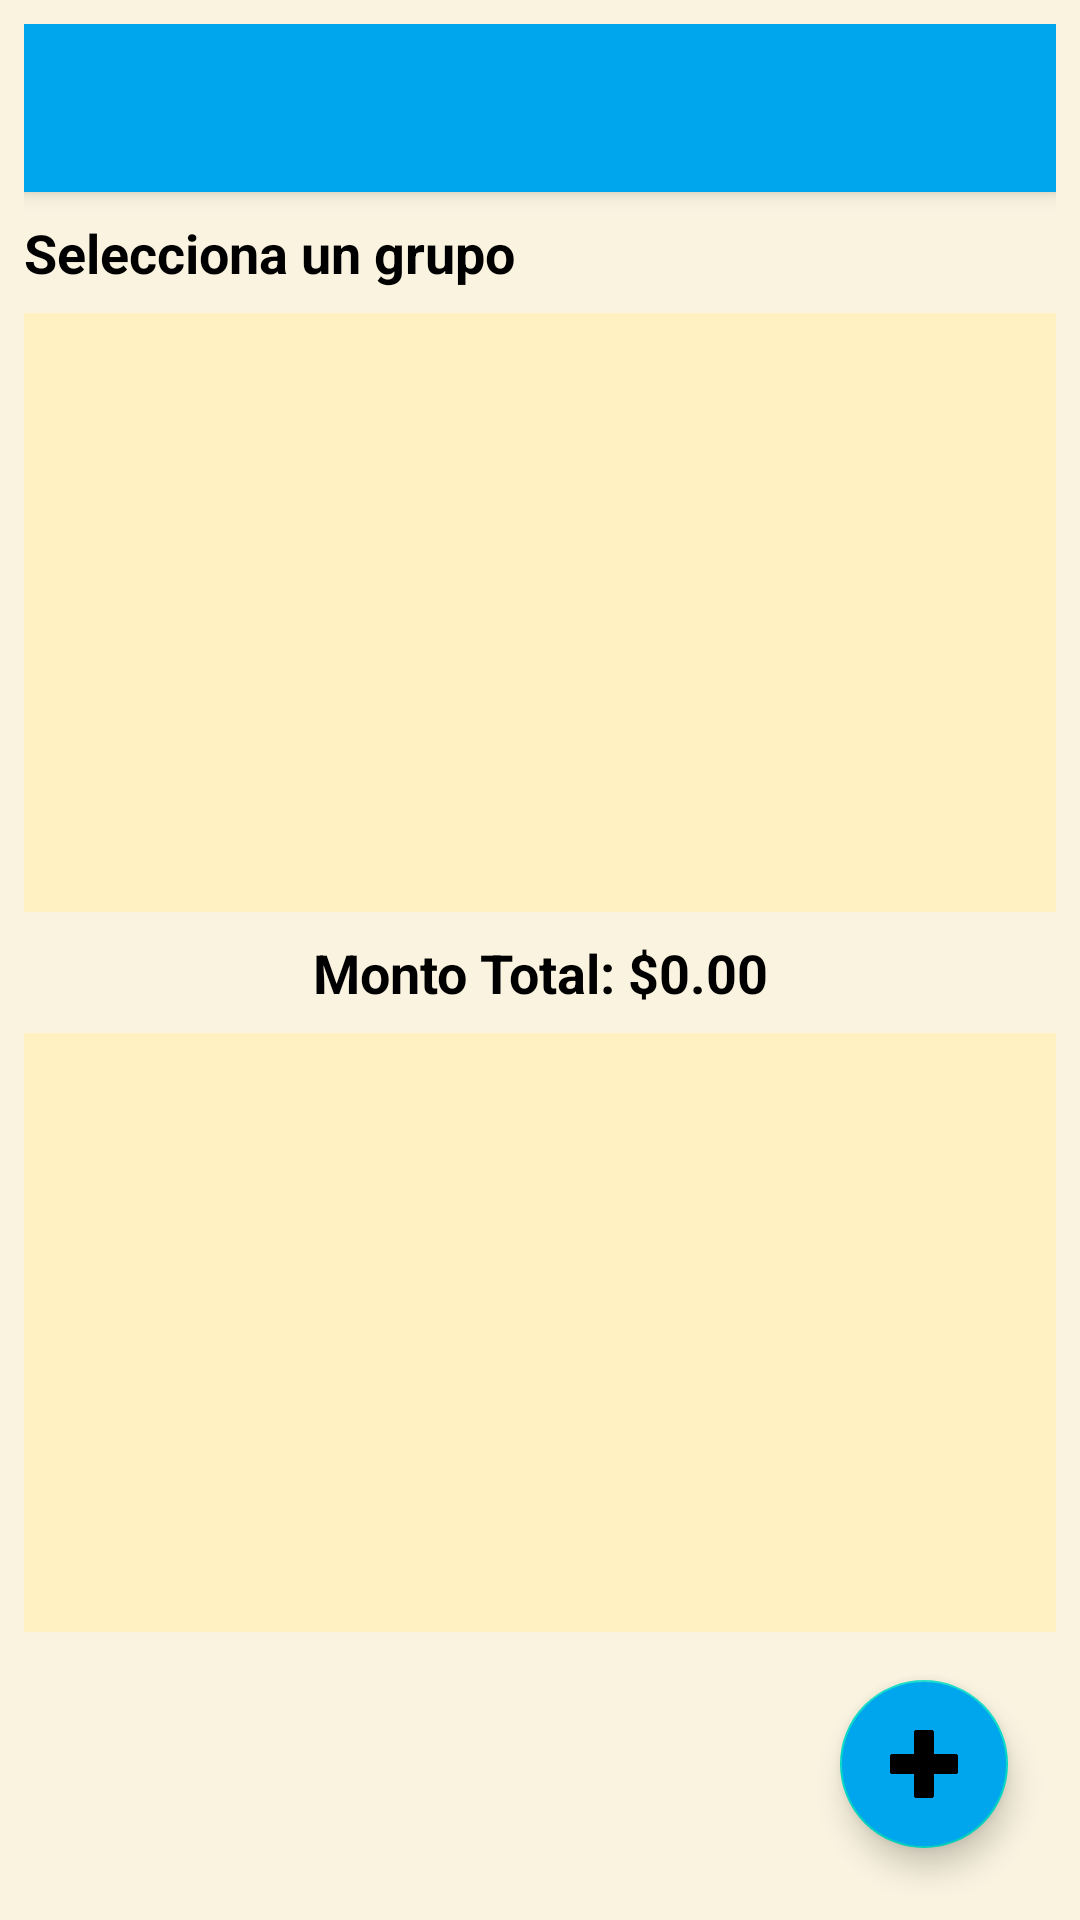

Screen size 1080px×1920px. Icon name, then its box in pixels as (x1, y1, x2, y2):
Agregar gasto: (840, 1680, 1008, 1848)
